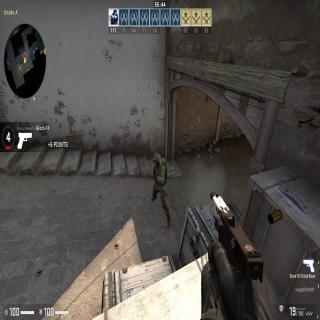CT-Body: (151, 151, 171, 230)
CT-Head: (154, 155, 160, 166)
